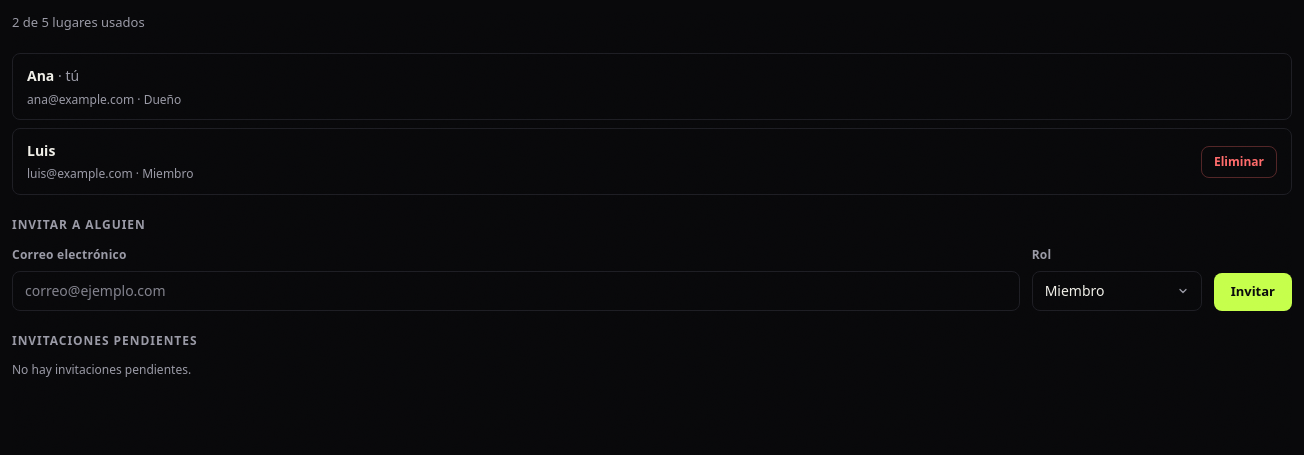
Test case: TeamPanel — invitar › el correo y el rol tienen etiqueta, y se manda el idioma de la interfaz
Expected: the text "2 de 5 lugares usados" is shown, [12, 13, 145, 31]
Type "eva@example.com" into the field labelled "Correo electrónico" at coordinates (516, 291), box [12, 271, 1020, 311]
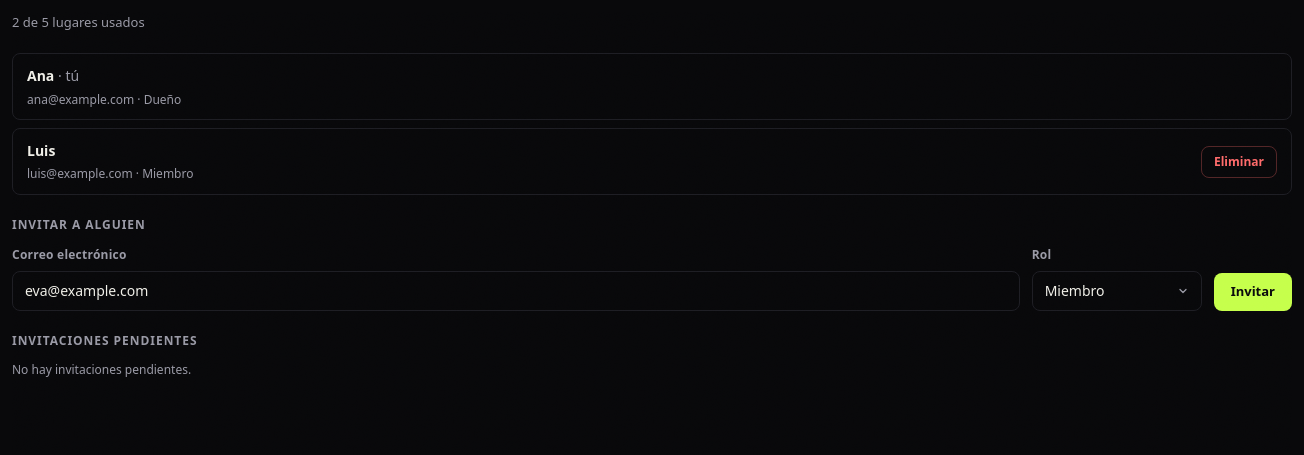
Select "Administrador" in the dropdown labelled "Rol" at coordinates (1117, 291), box [1032, 271, 1202, 311]
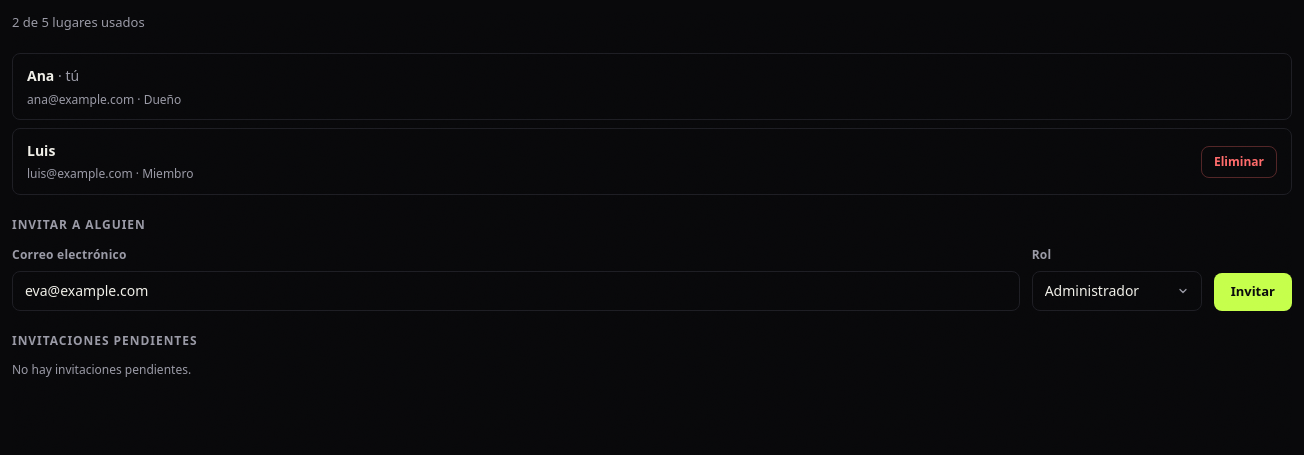
Click the button "Invitar" at coordinates (1253, 292), box [1214, 273, 1292, 311]
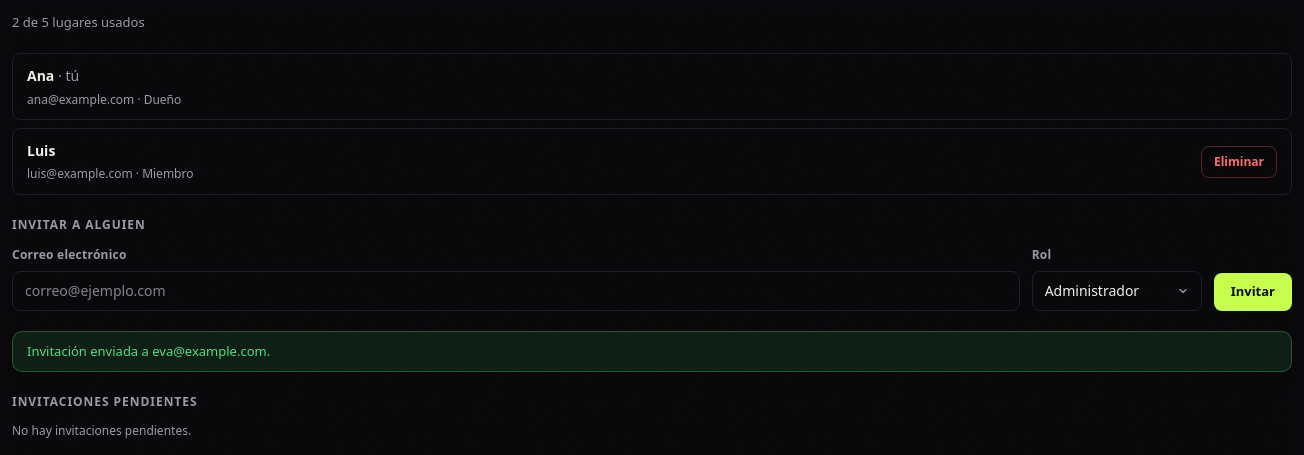
Now the text "Invitación enviada a eva@example.com." is shown, box [27, 342, 270, 361]
Now the field labelled "Correo electrónico" is empty, box [12, 271, 1020, 311]
